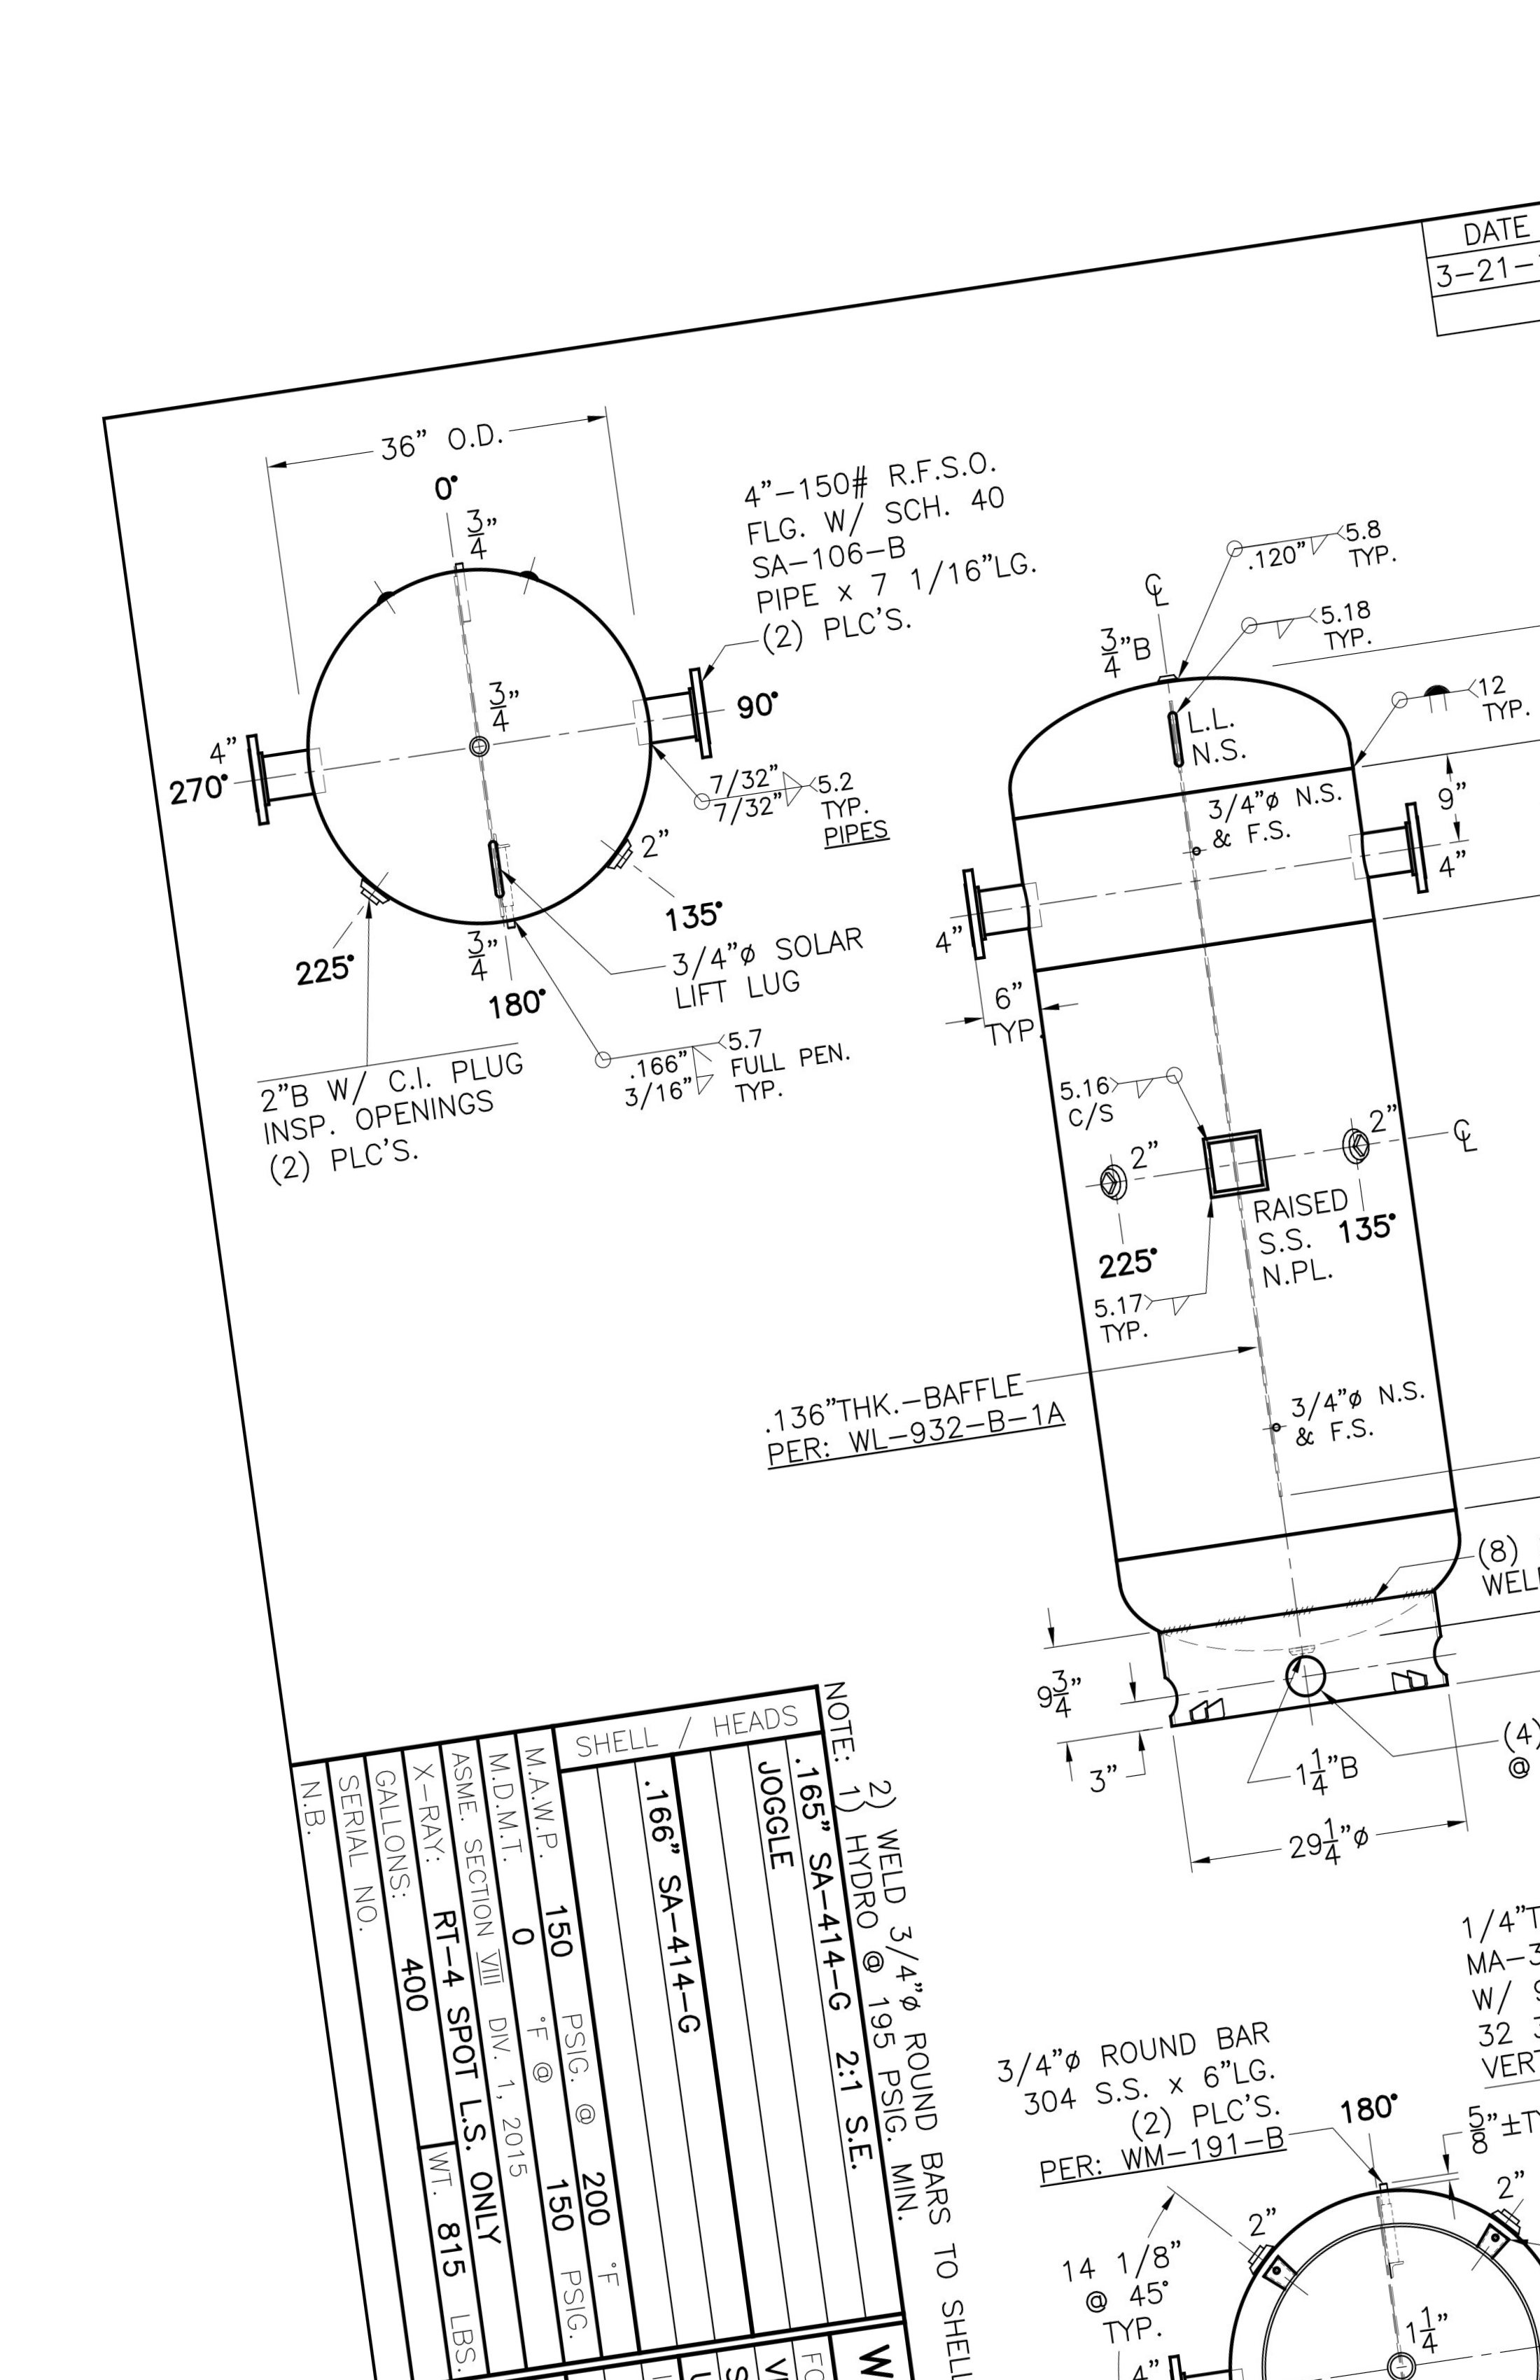Nozzle: (210, 697, 357, 845), (1330, 789, 1471, 942), (614, 657, 763, 774), (930, 834, 1054, 973)
